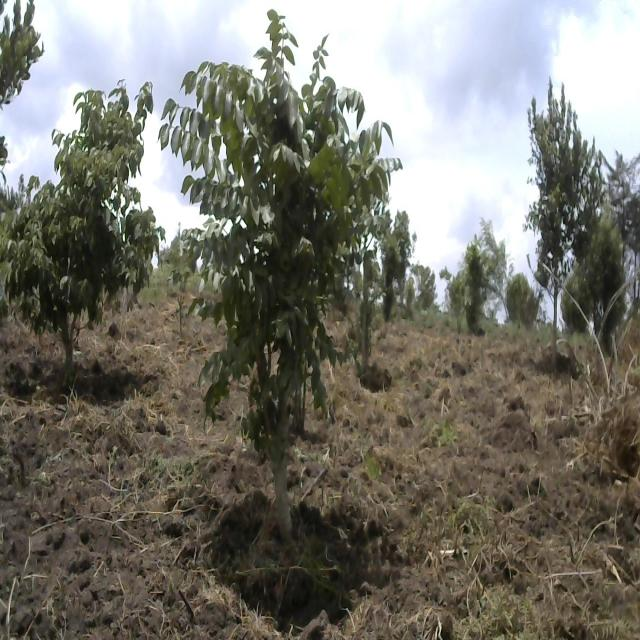Polyscias fulva: (162, 9, 404, 446), (8, 80, 158, 332)
other: (527, 85, 614, 343)
